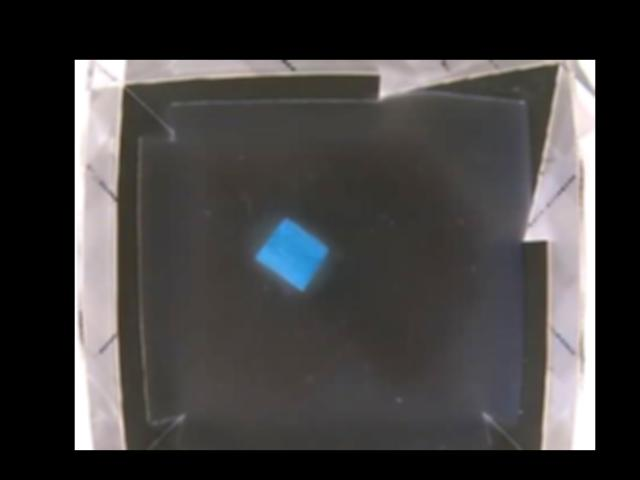Carrot: (255, 220, 326, 286)
